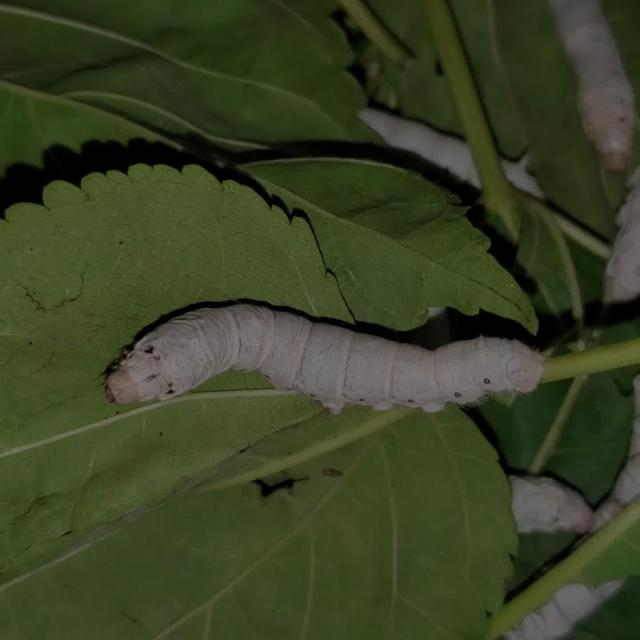Healthy: (82, 279, 561, 472)
